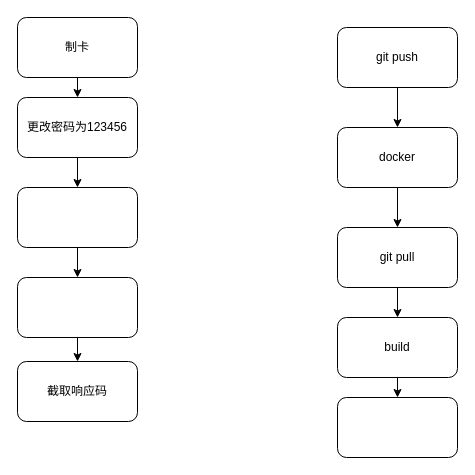
Some shapes in this 475 by 475 pixel diagram are drawn without their labels. Here are the shapes that lost their labels. From the top down, the centre of each, then its label:
At (x=77, y=217): "关闭产品层取现开关".
At (x=77, y=307): "8583取现交易".
At (x=397, y=427): "service_startx".
